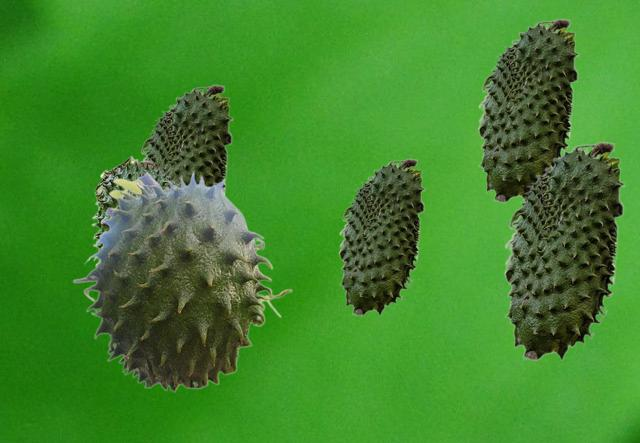guyabano: (72, 169, 292, 392), (503, 141, 624, 360), (477, 18, 578, 202), (338, 158, 424, 315), (91, 155, 179, 266), (140, 84, 232, 190)
